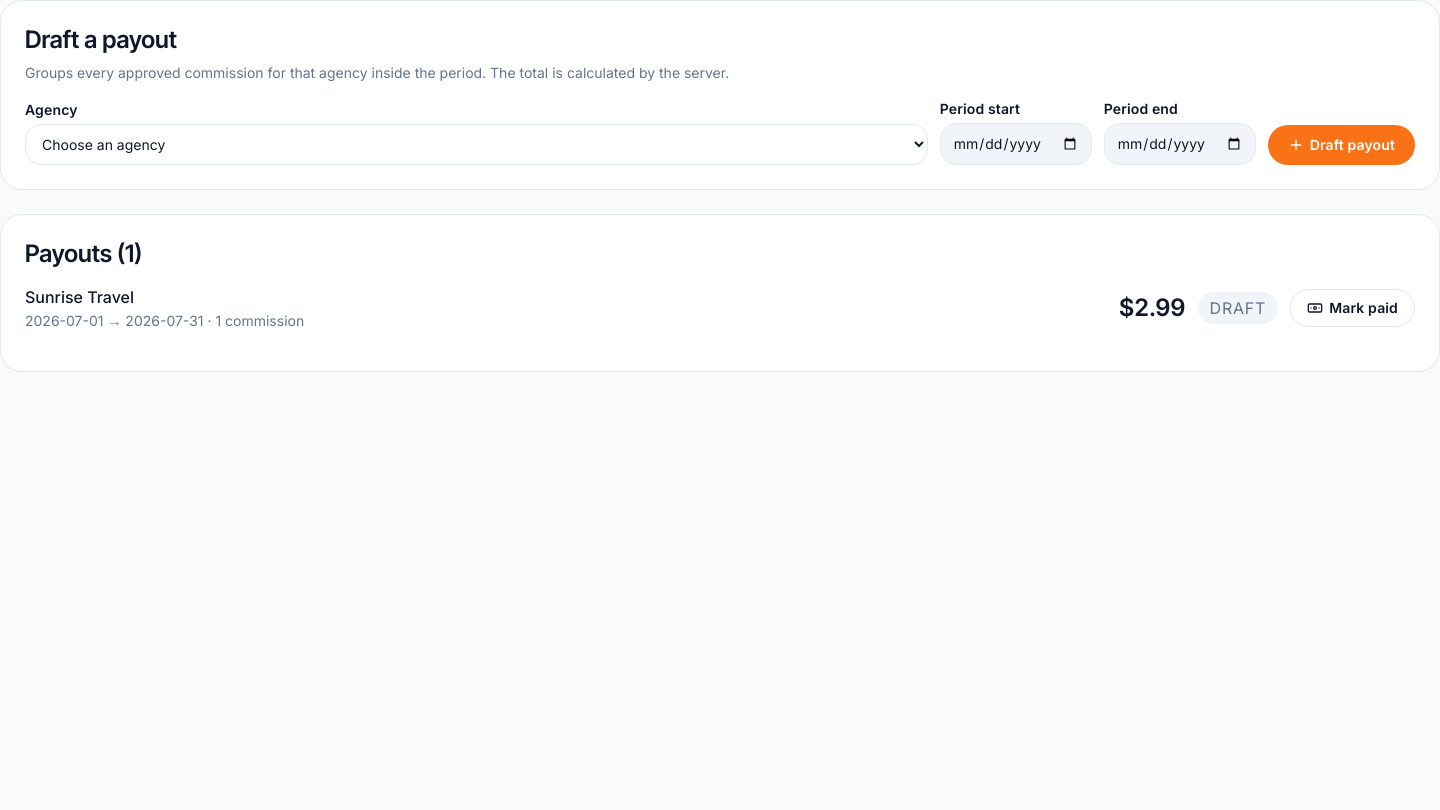
Scenario: marking one paid › reports a refusal rather than appearing to succeed
Click the 2nd button named "mark paid": (1353, 308) [1290,289,1415,327]
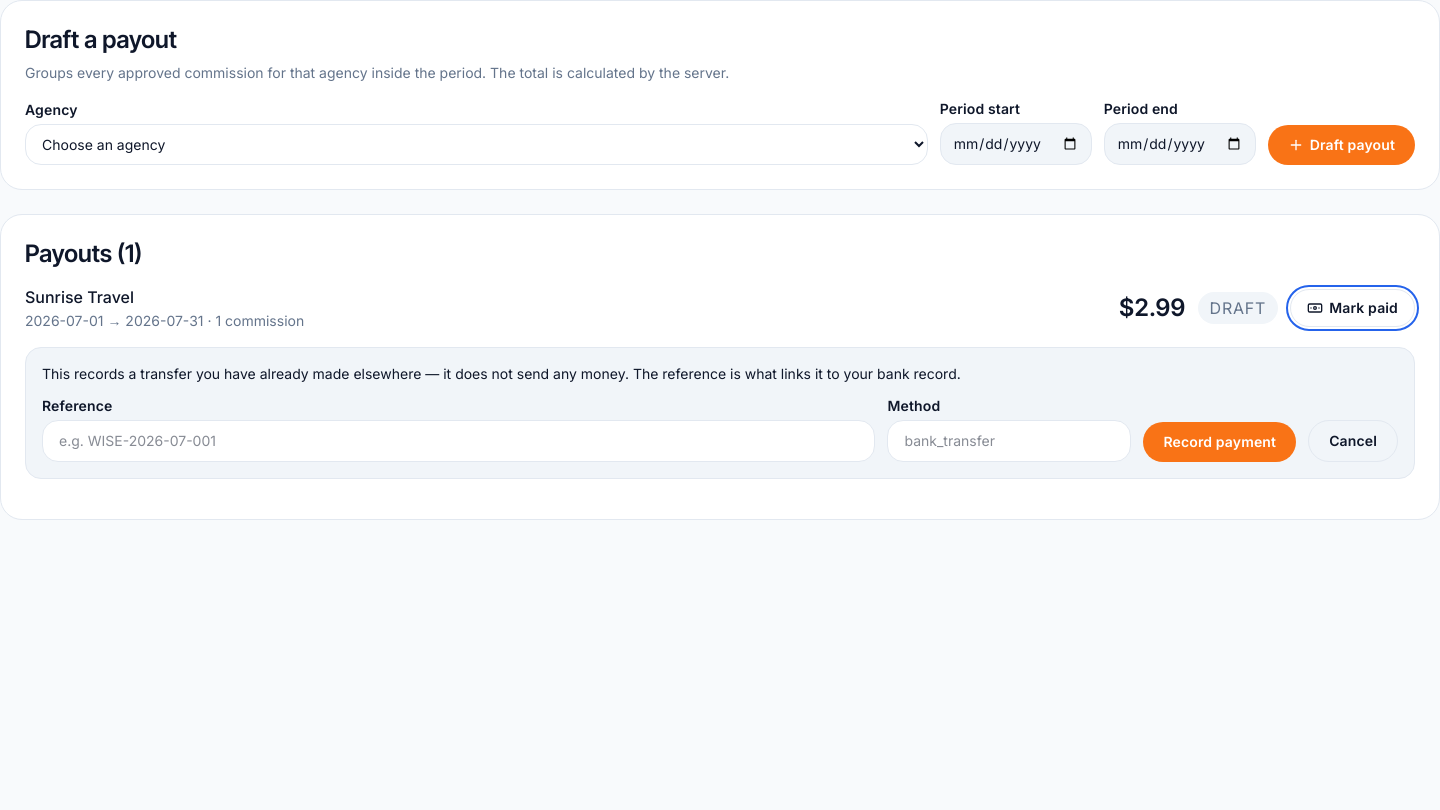
Click the 3rd button named "record payment": (1220, 442) [1143,422,1296,462]
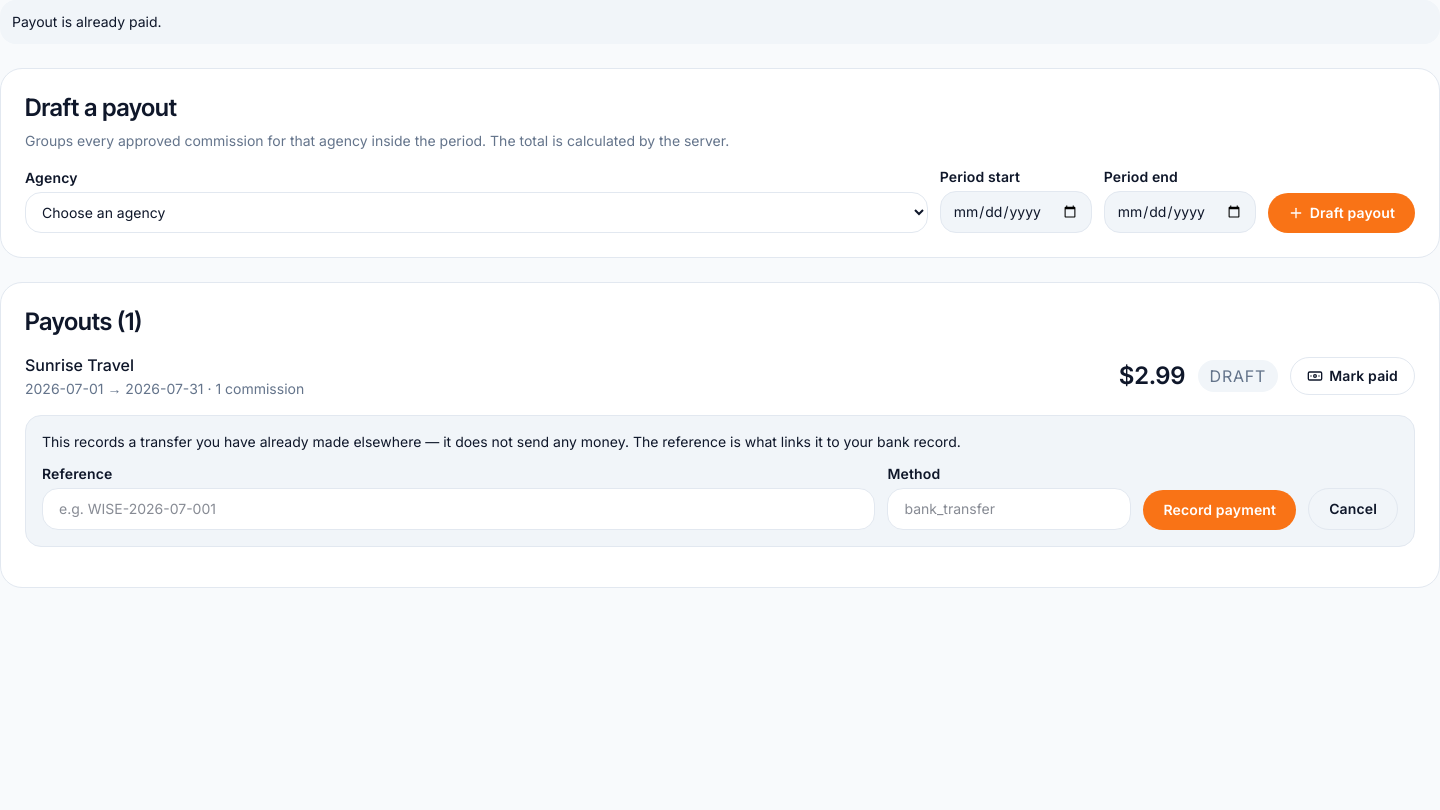
Check: the text "Payout is already paid." is shown, box [12,13,162,30]
